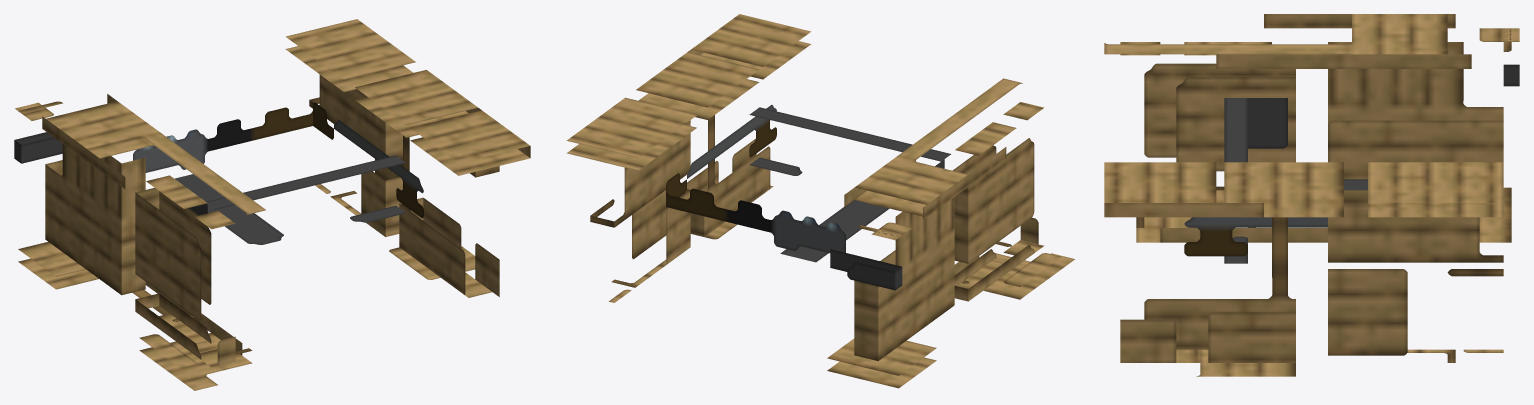
File: small_roller.obj
3 renders of one model, left to right at view 1: azimuth 30°, elevation 25°; view 2: azimuth 150°, elevation 25°; view 3: azimuth 270°, elevation 25°, orthographic. The views are drawn at different scales.
Visible parts, largest first — view 1: cube4, cube13, cube14, cube, cube10, cube7, cube9, cube8, cube12, cube3; view 2: cube4, cube13, cube, cube14, cube10, cube8, cube9, cube7, cube12; view 3: cube4, cube14, cube8, cube10, cube7, cube13, cube, cube9, cube3, cube12.
Part boxes in pixels (x1,y1,x2,y2): cube4: (285,19,530,175); cube13: (135,175,235,367); cube14: (45,144,145,295); cube: (133,102,423,244); cube10: (15,94,265,214); cube7: (399,135,499,297); cube9: (18,241,252,390); cube8: (309,74,402,236); cube12: (14,101,62,251); cube3: (389,246,475,279); cube4: (566,14,811,170); cube13: (953,102,1044,301); cube: (666,105,950,262); cube14: (854,197,954,360); cube10: (844,78,1022,240); cube8: (590,120,690,302); cube9: (827,241,1074,388); cube7: (686,59,773,236); cube12: (827,225,902,370); cube4: (1104,162,1503,217); cube14: (1328,42,1503,179); cube8: (1328,190,1503,362); cube10: (1104,14,1519,68); cube7: (1120,190,1295,362); cube13: (1120,42,1295,190); cube: (1184,98,1367,263); cube9: (1136,187,1511,242); cube3: (1196,349,1295,376); cube12: (1503,28,1519,227).
Bounding box in the file's own units: 1.75 × 0.8125 × 1.62.
